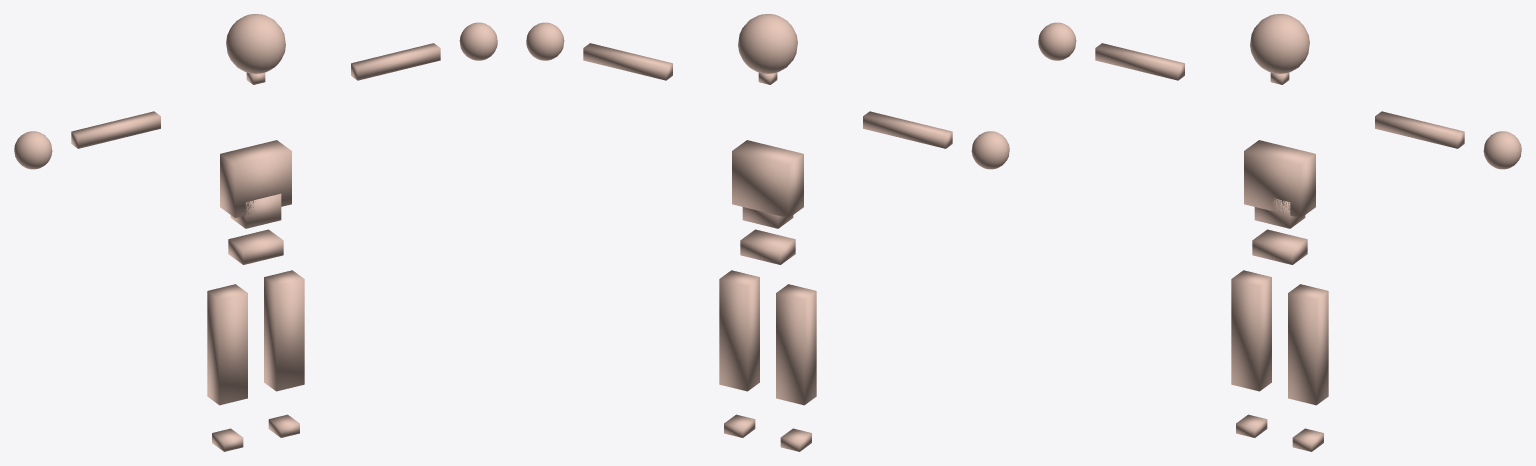
The model's file is hotel_manager.glb.
3 views of the same model, side by side, from view 1: azimuth 30°, elevation 25°; view 2: azimuth 150°, elevation 25°; view 3: azimuth 330°, elevation 25° (orthographic).
Parts seen in each view (by area): view 1: Leg_L, Leg_R, Chest, Head, Arm_L, Arm_R, Pelvis, Hand_L, Hand_R, Waist, Foot_L, Foot_R; view 2: Chest, Leg_L, Leg_R, Head, Arm_L, Arm_R, Pelvis, Hand_L, Hand_R, Waist, Foot_L, Foot_R; view 3: Leg_R, Leg_L, Chest, Head, Arm_L, Arm_R, Pelvis, Hand_L, Hand_R, Waist, Foot_R, Foot_L.
Boxes of the visible parts, left/top/right/bottom form: Leg_L: left=207, top=284, right=247, bottom=405; Leg_R: left=264, top=270, right=304, bottom=391; Chest: left=220, top=140, right=291, bottom=217; Head: left=226, top=14, right=285, bottom=73; Arm_L: left=71, top=111, right=160, bottom=148; Arm_R: left=351, top=43, right=440, bottom=80; Pelvis: left=228, top=229, right=283, bottom=264; Hand_L: left=14, top=131, right=52, bottom=169; Hand_R: left=459, top=22, right=497, bottom=60; Waist: left=230, top=193, right=281, bottom=228; Foot_L: left=212, top=428, right=243, bottom=451; Foot_R: left=268, top=414, right=299, bottom=437; Chest: left=732, top=140, right=803, bottom=217; Leg_L: left=776, top=284, right=816, bottom=405; Leg_R: left=719, top=270, right=759, bottom=391; Head: left=738, top=14, right=797, bottom=73; Arm_L: left=863, top=111, right=952, bottom=148; Arm_R: left=583, top=43, right=672, bottom=80; Pelvis: left=740, top=229, right=795, bottom=264; Hand_L: left=971, top=131, right=1009, bottom=169; Hand_R: left=526, top=22, right=564, bottom=60; Waist: left=742, top=207, right=793, bottom=228; Foot_L: left=780, top=428, right=811, bottom=451; Foot_R: left=724, top=414, right=755, bottom=437; Leg_R: left=1288, top=284, right=1328, bottom=405; Leg_L: left=1231, top=270, right=1271, bottom=391; Chest: left=1244, top=140, right=1315, bottom=217; Head: left=1250, top=14, right=1309, bottom=73; Arm_L: left=1095, top=43, right=1184, bottom=80; Arm_R: left=1375, top=111, right=1464, bottom=148; Pelvis: left=1252, top=229, right=1307, bottom=264; Hand_L: left=1038, top=22, right=1076, bottom=60; Hand_R: left=1483, top=131, right=1521, bottom=169; Waist: left=1254, top=198, right=1305, bottom=228; Foot_R: left=1292, top=428, right=1323, bottom=451; Foot_L: left=1236, top=414, right=1267, bottom=437.
Size of the model in its own units: 2.02 by 1.7 by 0.22.
